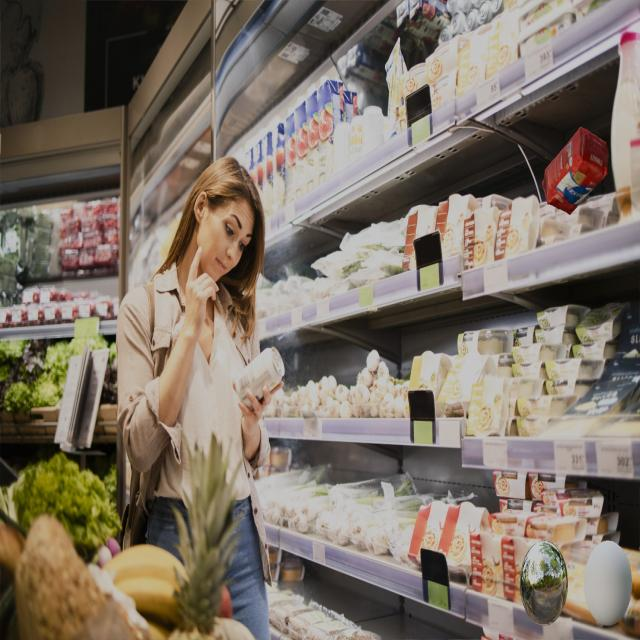mate bag: (542, 123, 608, 214)
